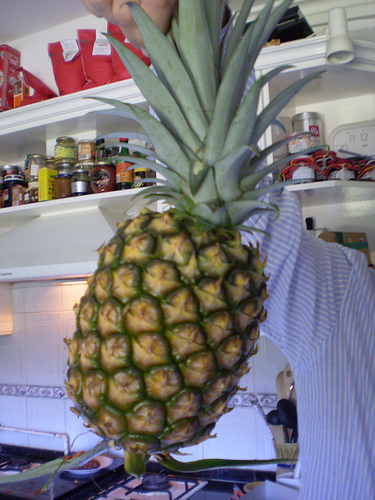pineapple: (60, 2, 270, 456)
